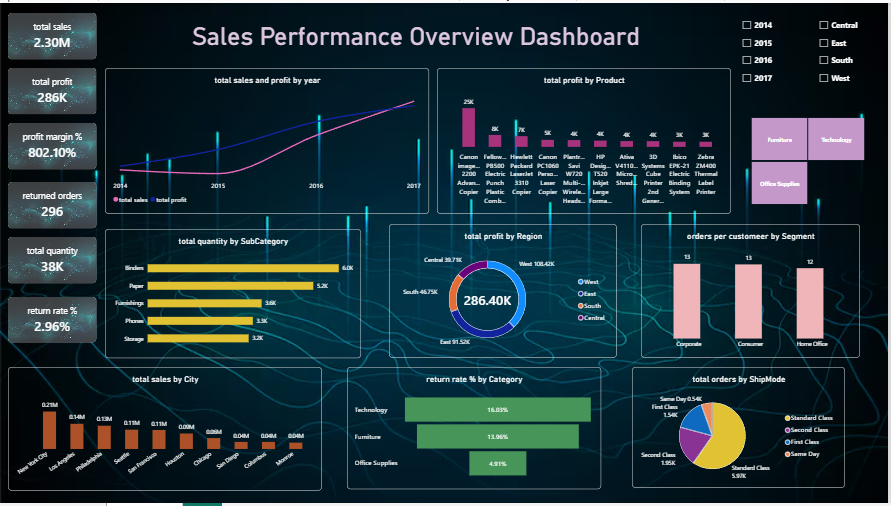

Layout of this report page (visuals, bound fields, positions):
{"tool":"powerbi","page":{"name":"Page 1","canvas":[1920,1080],"ordinal":0},"visuals":[{"type":"cardVisual","fields":{"Data":["customer.total sales"]},"box":[17.6,22.7,191.5,100.8],"z":0},{"type":"cardVisual","fields":{"Data":["orders.total profit"]},"box":[17.6,141.1,191.5,100.8],"z":1000},{"type":"cardVisual","fields":{"Data":["customer.profit margin %"]},"box":[17.6,259.5,191.5,100.8],"z":2000},{"type":"cardVisual","fields":{"Data":["customer.returned orders"]},"box":[17.3,386.6,191.5,100.8],"z":3000},{"type":"cardVisual","fields":{"Data":["customer.total quantity"]},"box":[17.3,505.4,191.5,100.8],"z":4000},{"type":"cardVisual","fields":{"Data":["customer.return rate %"]},"box":[17.6,635,191.5,98.3],"z":5000},{"type":"lineChart","title":"total sales and profit by year","fields":{"Category":["orders.Year"],"Y":["customer.total sales"],"Y2":["orders.total profit"]},"box":[226.8,140.4,699.8,315.4],"z":5001},{"type":"clusteredBarChart","fields":{"Category":["product.SubCategory"],"Y":["customer.total quantity"]},"box":[226.8,488.2,553,278.6],"z":5002},{"type":"columnChart","title":"total profit by Product","fields":{"Category":["product.ProductName"],"Y":["orders.total profit"]},"box":[943.9,140.4,635,315.4],"z":5003},{"type":"columnChart","fields":{"Category":["customer.City"],"Y":["customer.total sales"]},"box":[17.6,786.1,677.8,267.1],"z":5004},{"type":"donutChart","fields":{"Category":["regions.Region"],"Y":["orders.total profit"]},"box":[840.2,477.4,492.5,289.4],"z":5005},{"type":"clusteredColumnChart","fields":{"Category":["customer.Segment"],"Y":["customer.orders per customeer"]},"box":[1384.6,477.4,473,289.4],"z":5006},{"type":"funnel","fields":{"Category":["product.Category"],"Y":["customer.return rate %"]},"box":[749.5,786.2,548.6,263.5],"z":5007},{"type":"pieChart","fields":{"Category":["orders.ShipMode"],"Y":["customer.total orders"]},"box":[1365.1,786.2,460.1,261.4],"z":5008},{"type":"slicer","fields":{"Values":["orders.Year"]},"box":[1596.2,28.1,138.2,179.3],"z":5009},{"type":"slicer","fields":{"Values":["regions.Region"]},"box":[1762.6,28.1,123.1,194.4],"z":5010},{"type":"slicer","fields":{"Values":["product.Category"]},"box":[1602.7,246.2,283,190.1],"z":5011},{"type":"shape","title":"Sales Performance Overview Dashboard","box":[414.7,41,1088.6,64.8],"z":5012}]}

Visuals, with their boxes in screenshot pixels (x1, y1, x2, y2), scaled from the page's 1920x1080 canvas onto the 891x506 screenshot:
cardVisual - customer.total sales: bbox(8, 11, 97, 58)
cardVisual - orders.total profit: bbox(8, 66, 97, 113)
cardVisual - customer.profit margin %: bbox(8, 122, 97, 169)
cardVisual - customer.returned orders: bbox(8, 181, 97, 228)
cardVisual - customer.total quantity: bbox(8, 237, 97, 284)
cardVisual - customer.return rate %: bbox(8, 298, 97, 344)
"total sales and profit by year" lineChart: bbox(105, 66, 430, 214)
clusteredBarChart - product.SubCategory x customer.total quantity: bbox(105, 229, 362, 359)
"total profit by Product" columnChart: bbox(438, 66, 733, 214)
columnChart - customer.City x customer.total sales: bbox(8, 368, 323, 493)
donutChart - regions.Region x orders.total profit: bbox(390, 224, 618, 359)
clusteredColumnChart - customer.Segment x customer.orders per customeer: bbox(643, 224, 862, 359)
funnel - product.Category x customer.return rate %: bbox(348, 368, 602, 492)
pieChart - orders.ShipMode x customer.total orders: bbox(633, 368, 847, 491)
slicer - orders.Year: bbox(741, 13, 805, 97)
slicer - regions.Region: bbox(818, 13, 875, 104)
slicer - product.Category: bbox(744, 115, 875, 204)
"Sales Performance Overview Dashboard" shape: bbox(192, 19, 698, 50)
